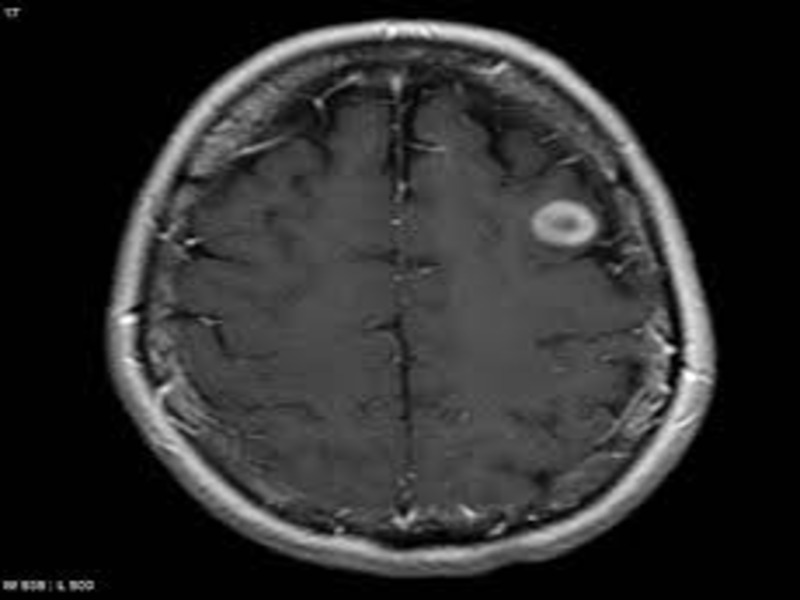tumor: (527, 196, 605, 267)
